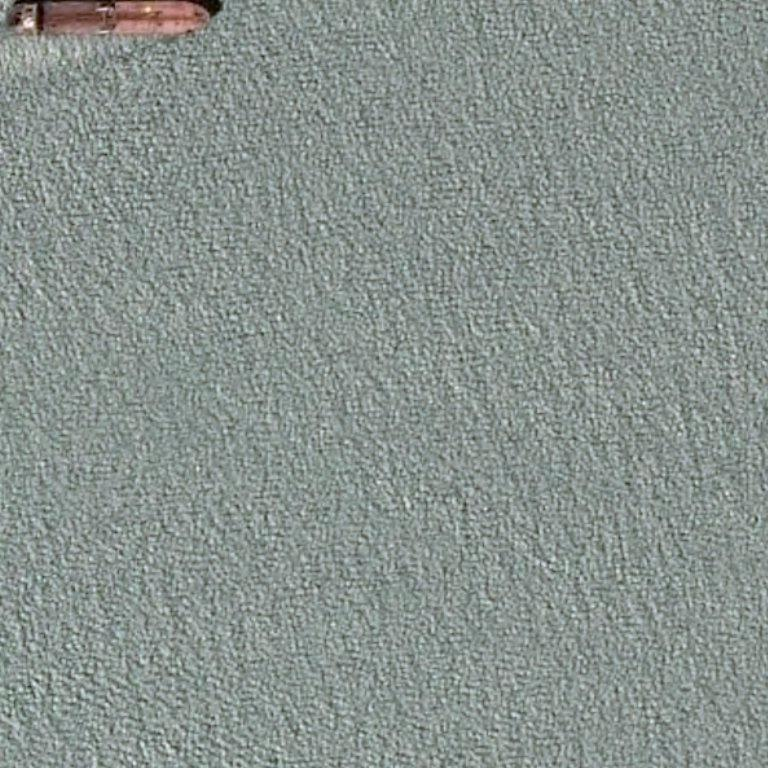ship: (0, 0, 136, 39), (208, 11, 212, 22), (13, 4, 18, 10), (0, 2, 4, 7)
